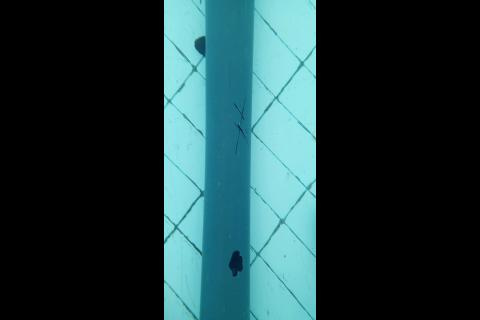kebocoran: (228, 249, 244, 278)
keretakan: (234, 98, 248, 154)
